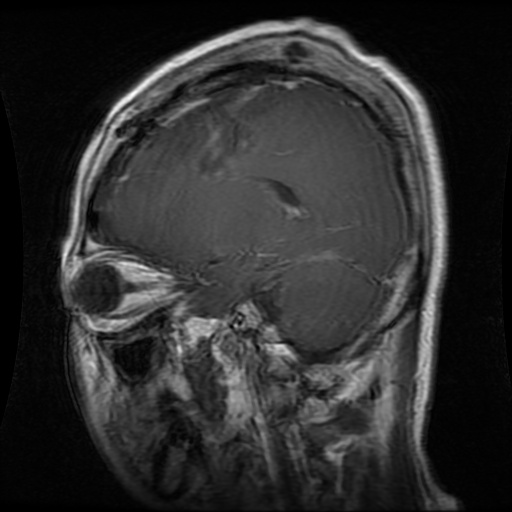glioma: (194, 107, 244, 176)
